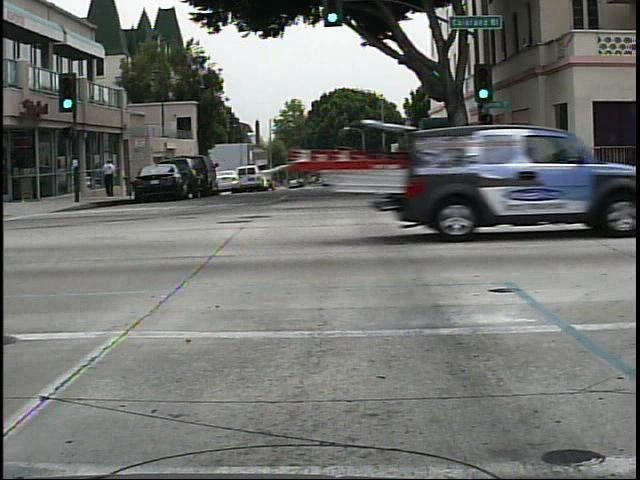person: (453, 141, 481, 196), (97, 153, 123, 202)
